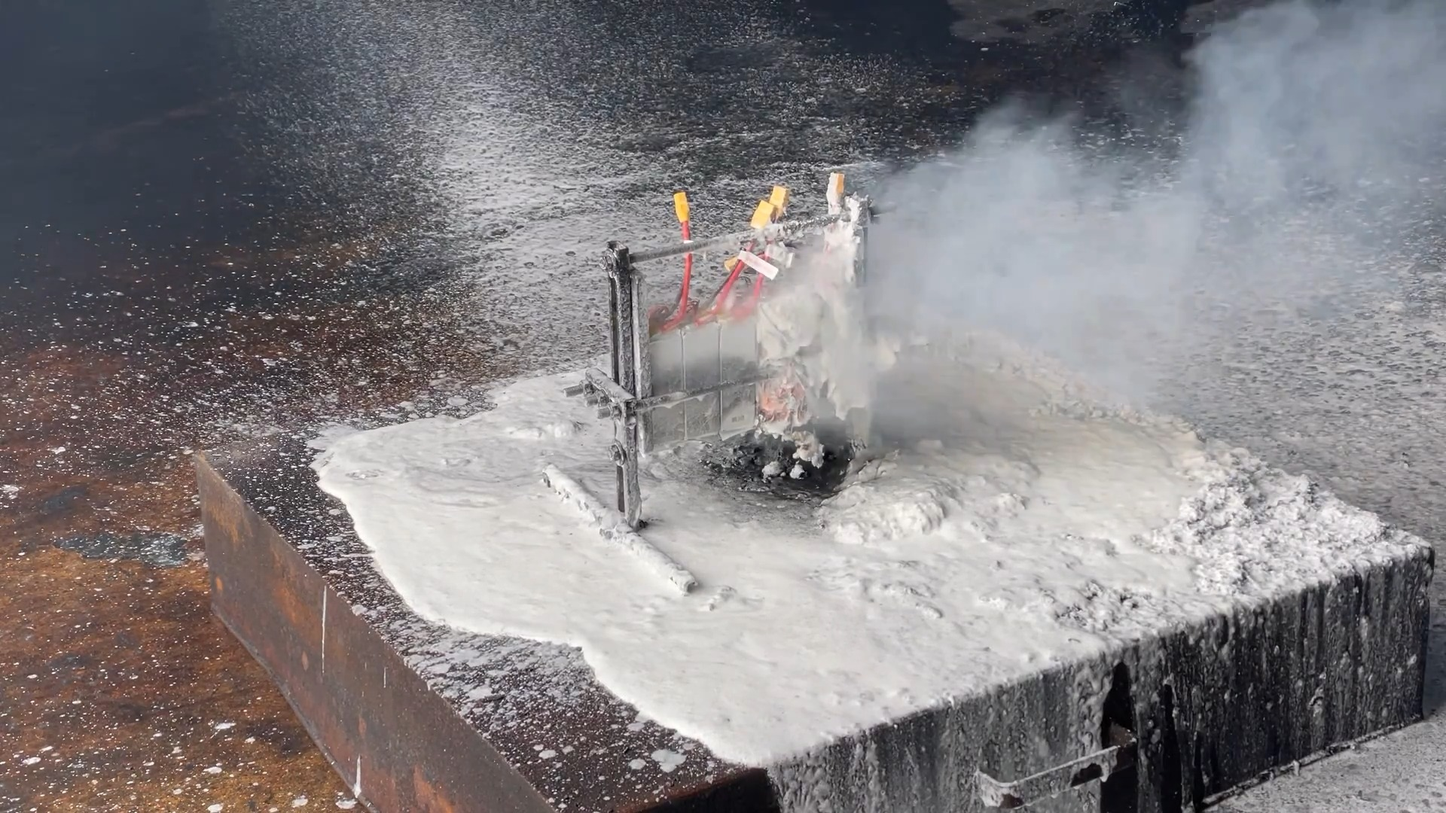smoke: (787, 1, 1445, 449)
